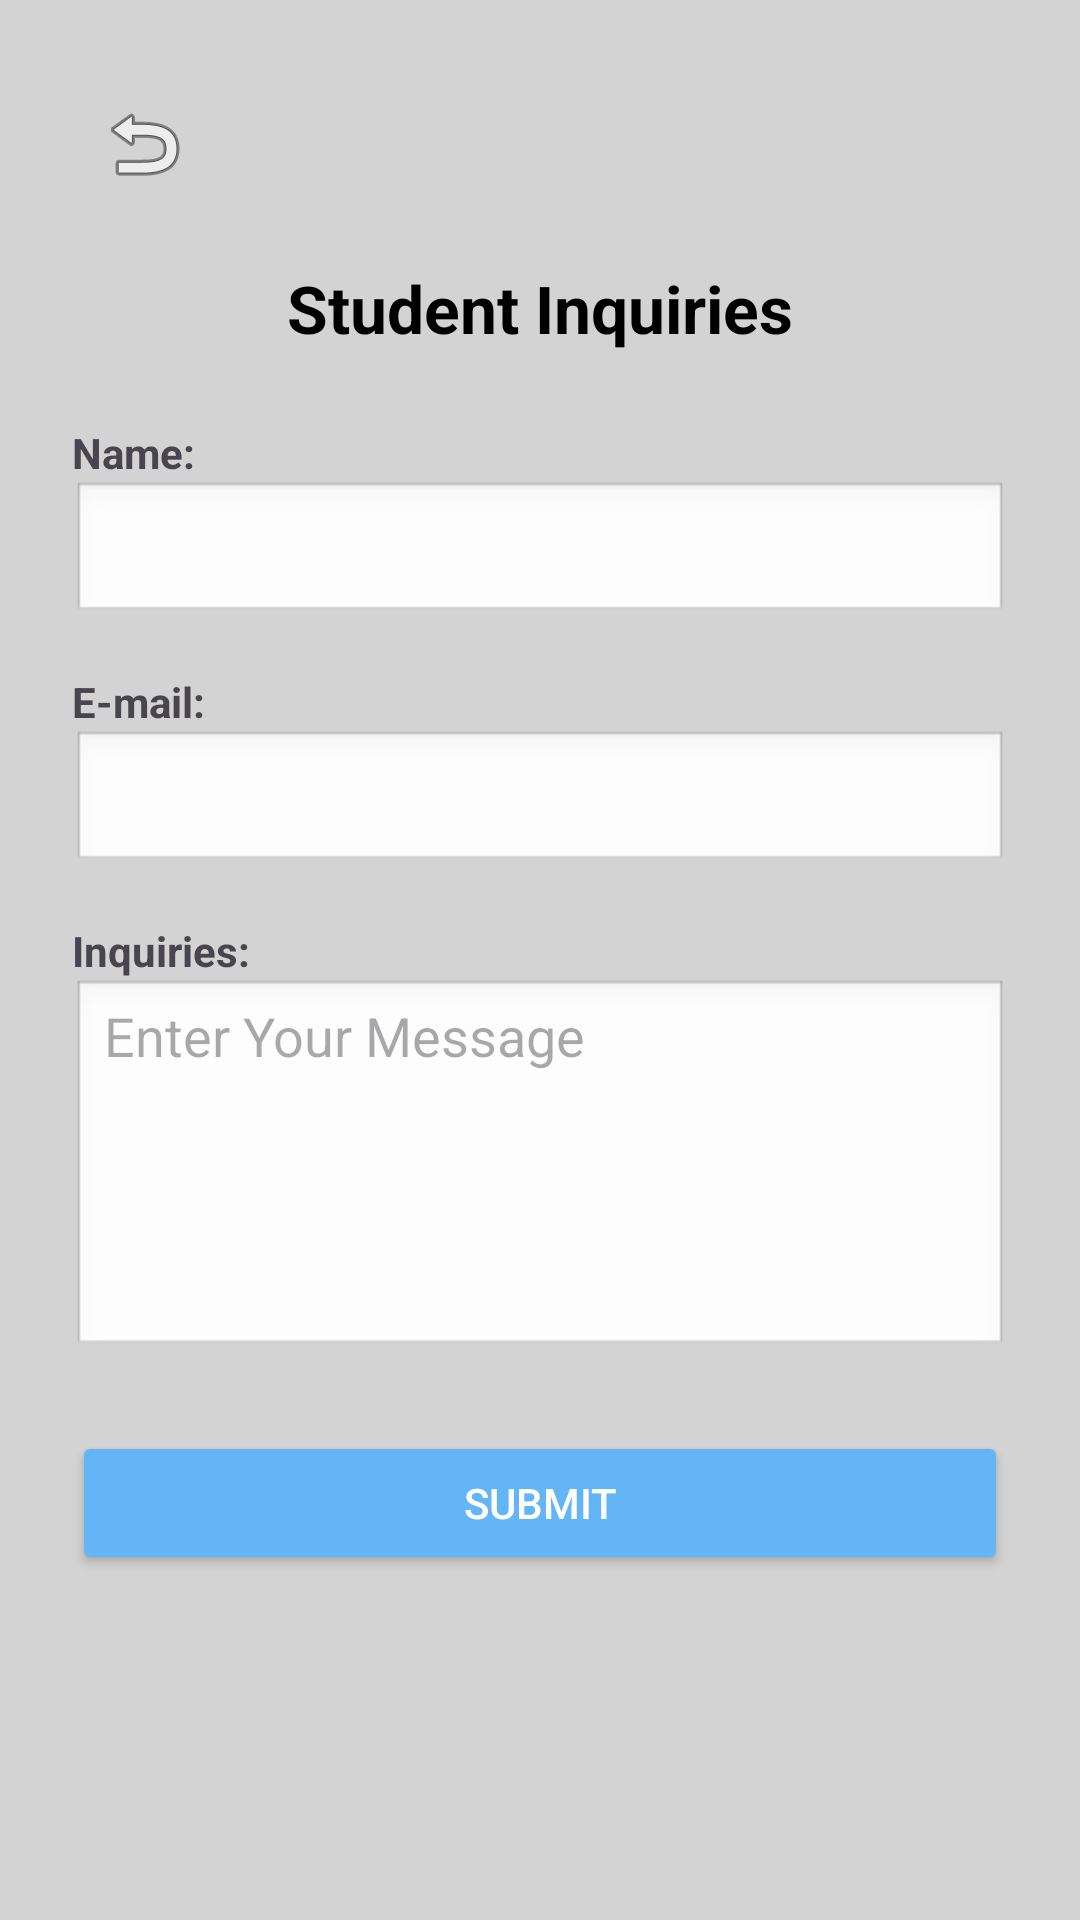

Screen size 1080px×1920px. Icon name, then its box in pixels as (x1, y1, x2, y2):
Back: (111, 113, 180, 176)
